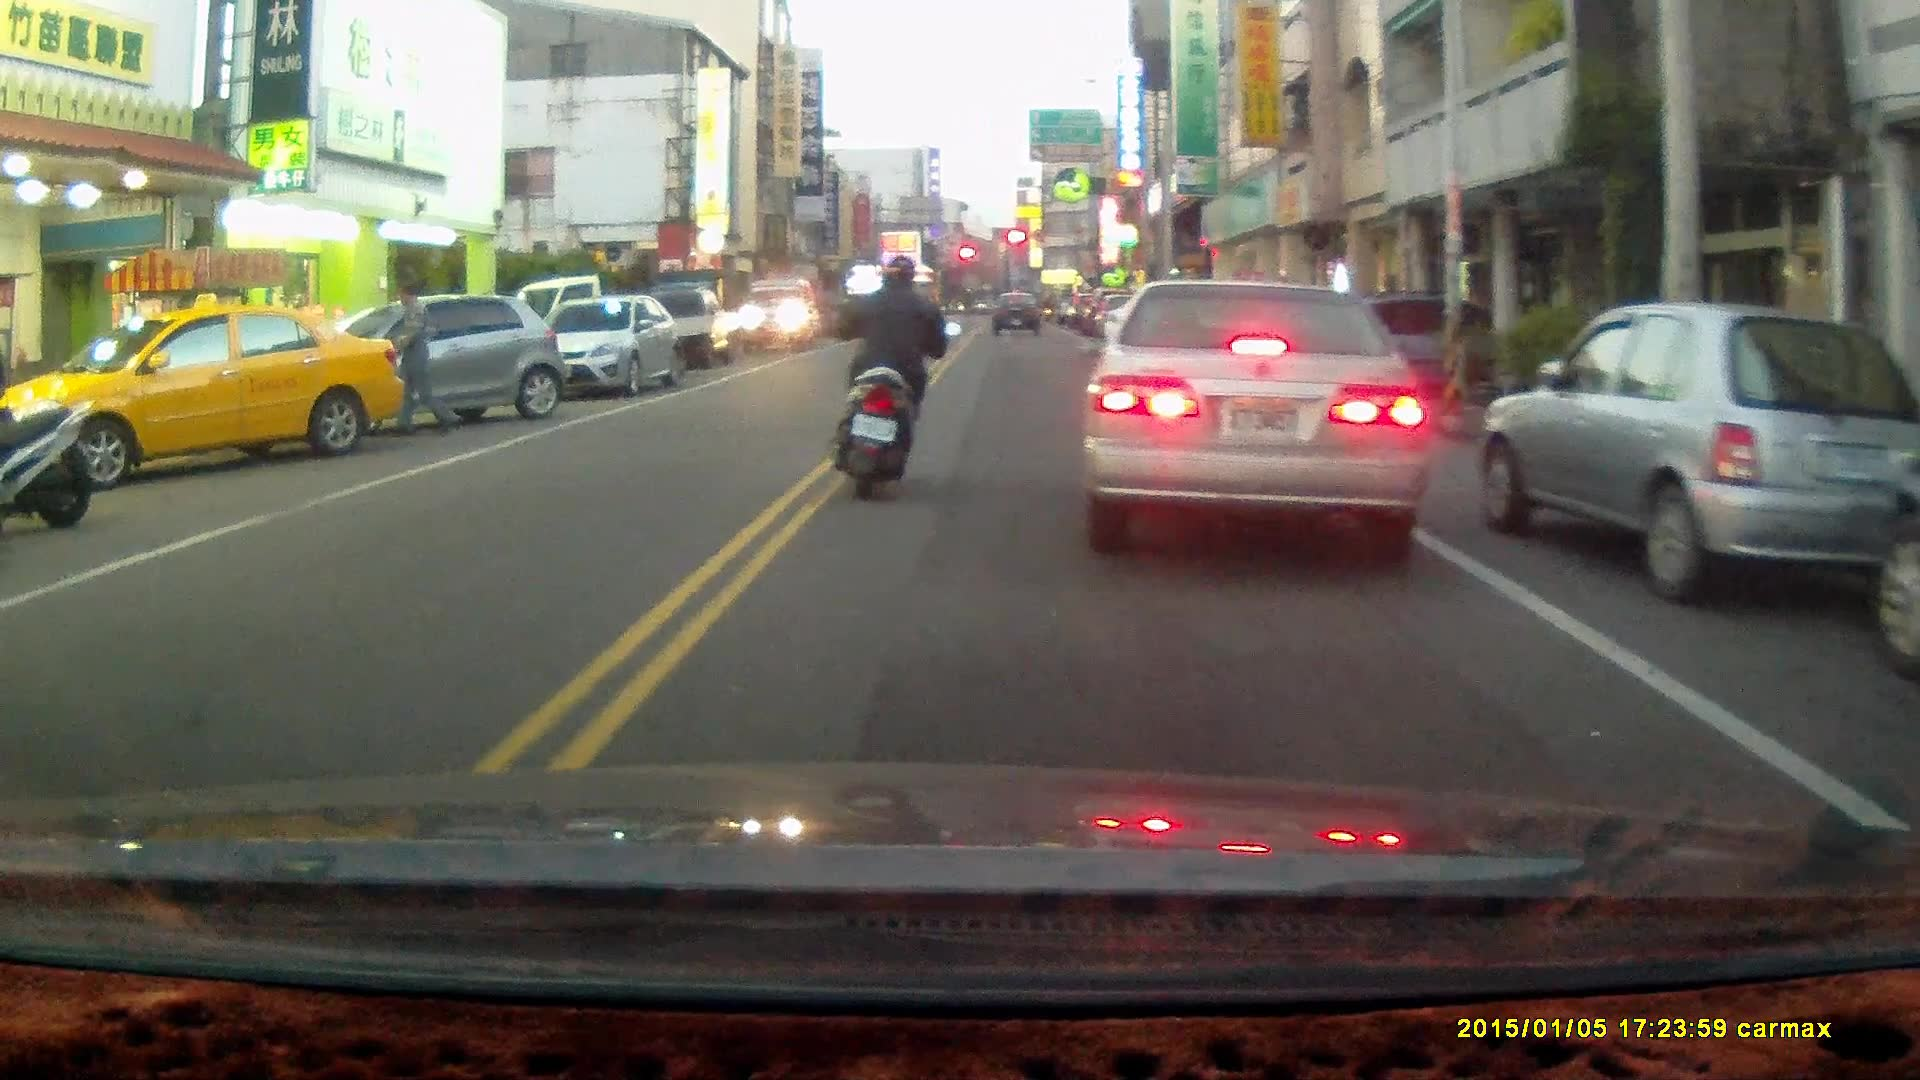pedestrian: (384, 280, 457, 442)
rider: (830, 253, 960, 503)
vehicle: (1482, 303, 1920, 608), (1072, 276, 1435, 556), (1, 302, 410, 494), (294, 290, 566, 424), (544, 296, 686, 398), (677, 283, 768, 375), (737, 279, 821, 354)
